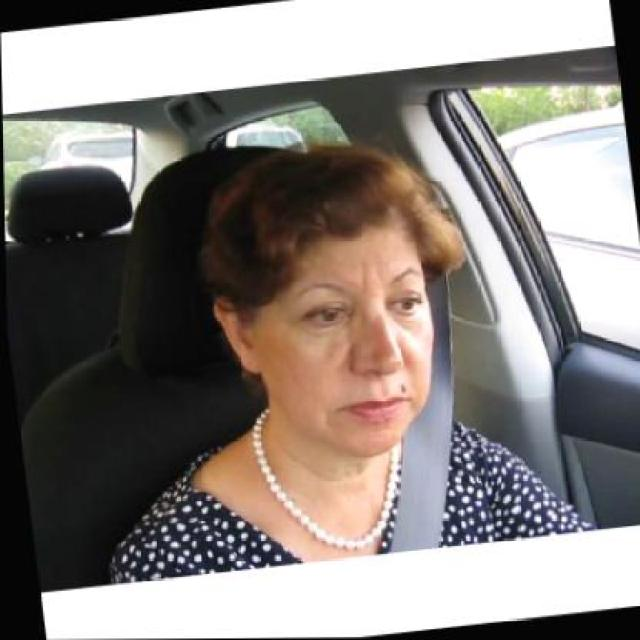attentif: (194, 130, 446, 468)
